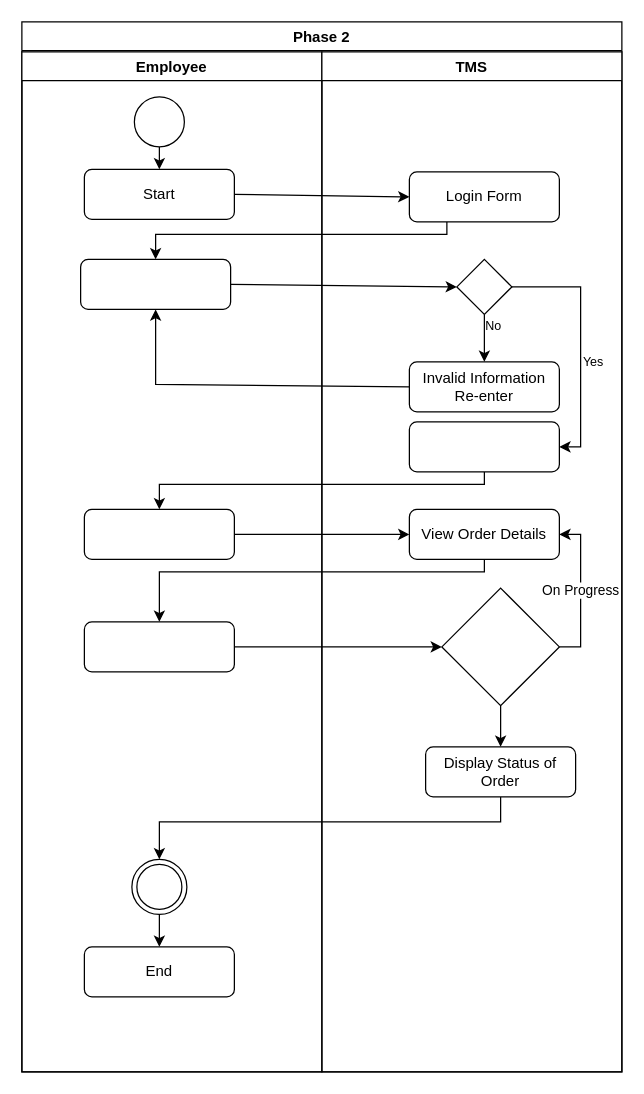
Image size: 644x1094. Some labels were removed from this diagram. Each missing label, with the box of its shape:
Accept order: (83, 508, 234, 559)
Change Status: (83, 621, 234, 672)
Status Of Order Completion: (441, 587, 559, 706)
Validation Information: (79, 258, 231, 309)
View Order List: (408, 421, 559, 472)
